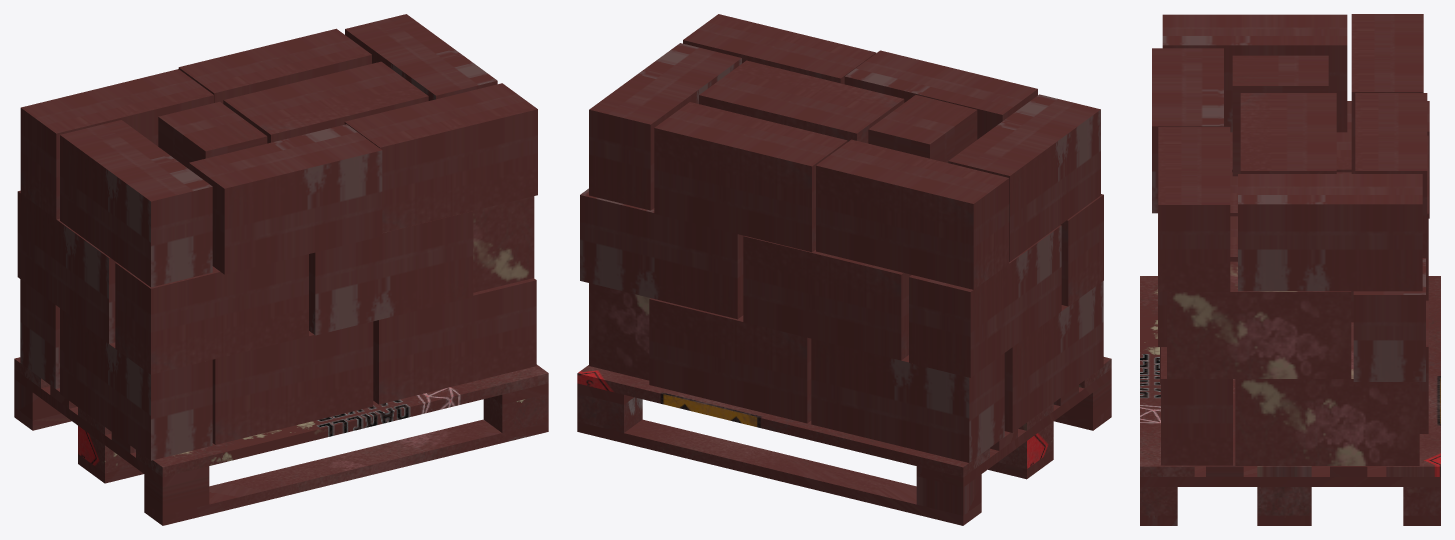
File: CS_palette_brick.FBX
3 renders of one model, left to right at view 1: azimuth 30°, elevation 25°; view 2: azimuth 150°, elevation 25°; view 3: azimuth 270°, elevation 25°, orthographic.
Parts seen in each view (by area): view 1: SM_palette_brick; view 2: SM_palette_brick; view 3: SM_palette_brick.
Part boxes in pixels (box(x1,y1,x2,y2)): SM_palette_brick: box(14, 14, 548, 525); SM_palette_brick: box(577, 14, 1111, 525); SM_palette_brick: box(1140, 14, 1440, 525).
Size of the model in its own units: 147 by 96 by 114.
